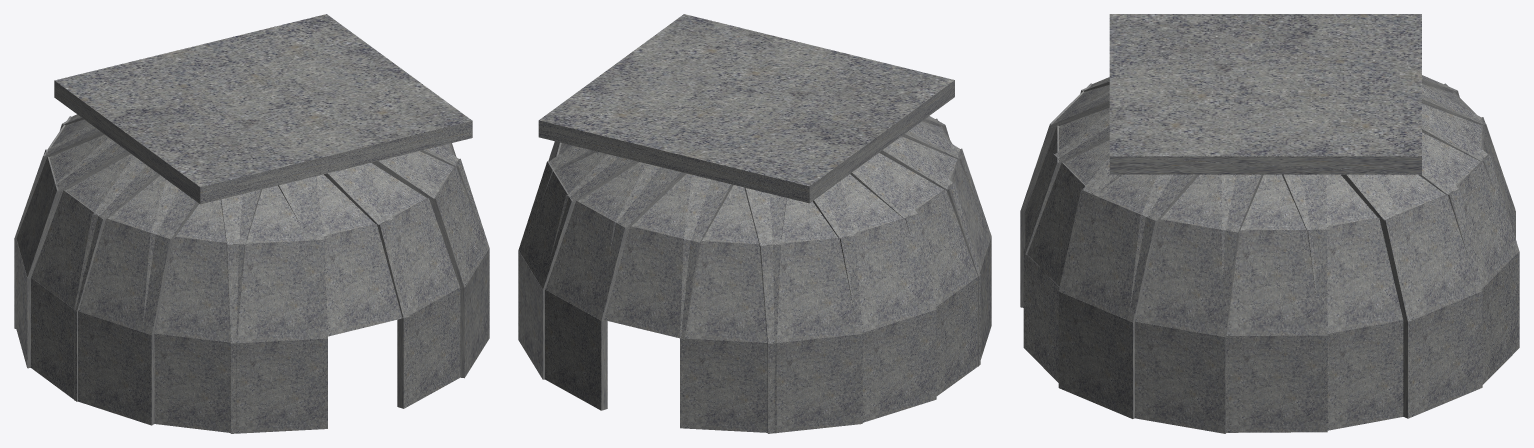
The model's file is LAB_WALLS.fbx.
The picture shows the model from 3 angles, left to right: view 1: azimuth 30°, elevation 25°; view 2: azimuth 150°, elevation 25°; view 3: azimuth 270°, elevation 25°; orthographic projection. The views are drawn at different scales.
Parts seen in each view (by area): view 1: Cube; view 2: Cube; view 3: Cube.
Boxes of the visible parts, left/top/right/bottom form: Cube: left=14, top=14, right=489, bottom=433; Cube: left=518, top=14, right=991, bottom=433; Cube: left=1020, top=14, right=1519, bottom=433.
Size of the model in its own units: 2741 by 1498 by 2728.
Materials: 1 (1 with a texture image).
